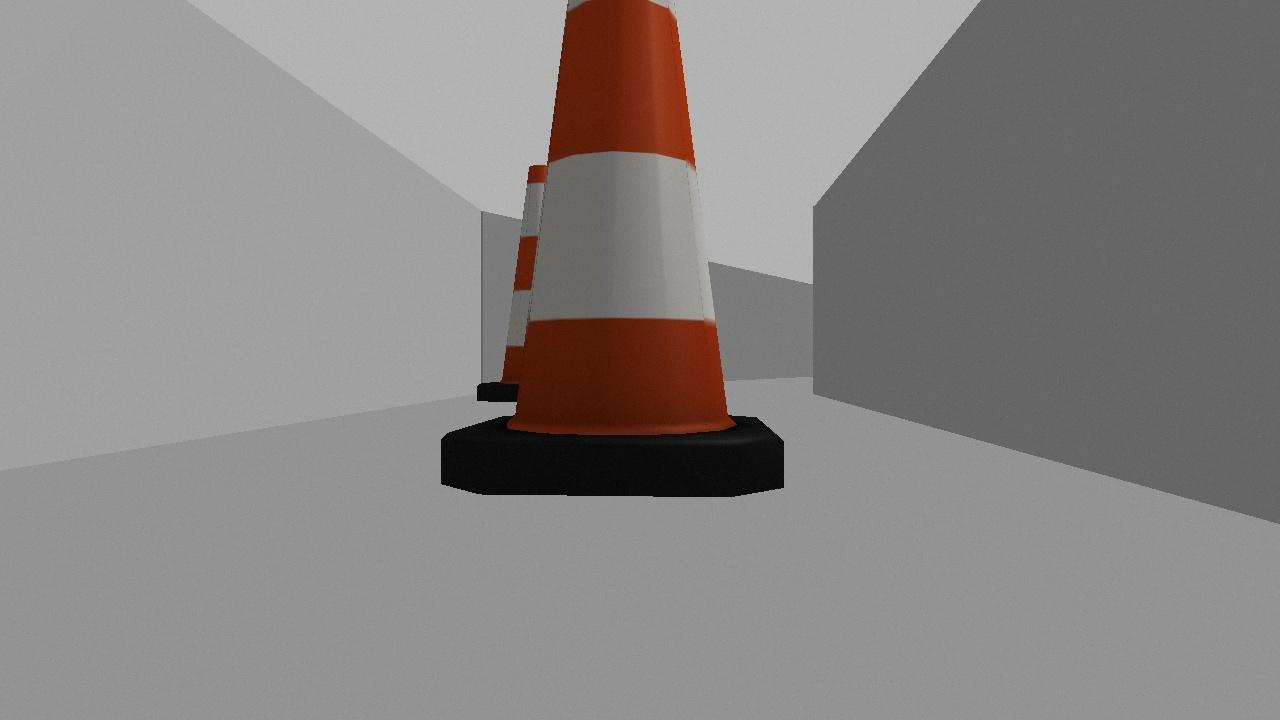cone_barrel: (403, 6, 814, 511), (470, 161, 589, 407)
